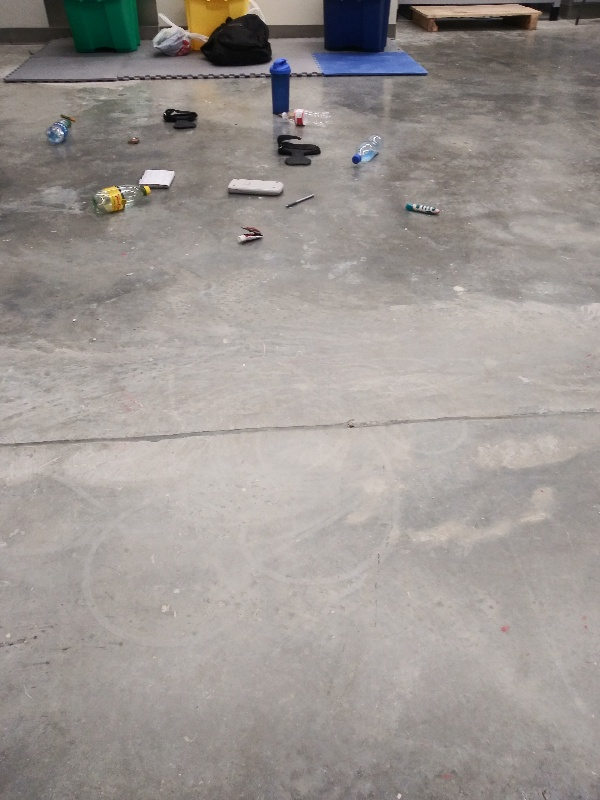bottle: (89, 178, 153, 220), (277, 108, 338, 133), (350, 130, 389, 169), (41, 115, 74, 147)
